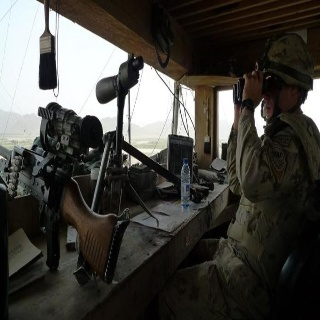rifle: (1, 100, 130, 286)
